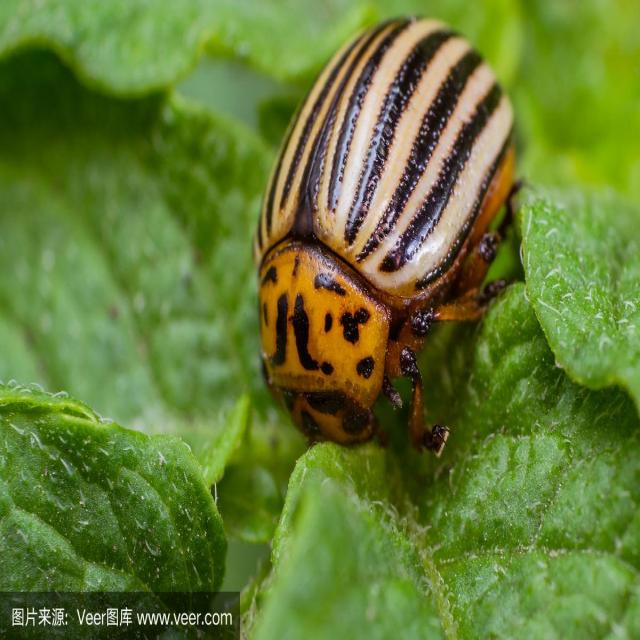ShuCaiHuaBanChong-Grown-: (251, 15, 527, 452)
